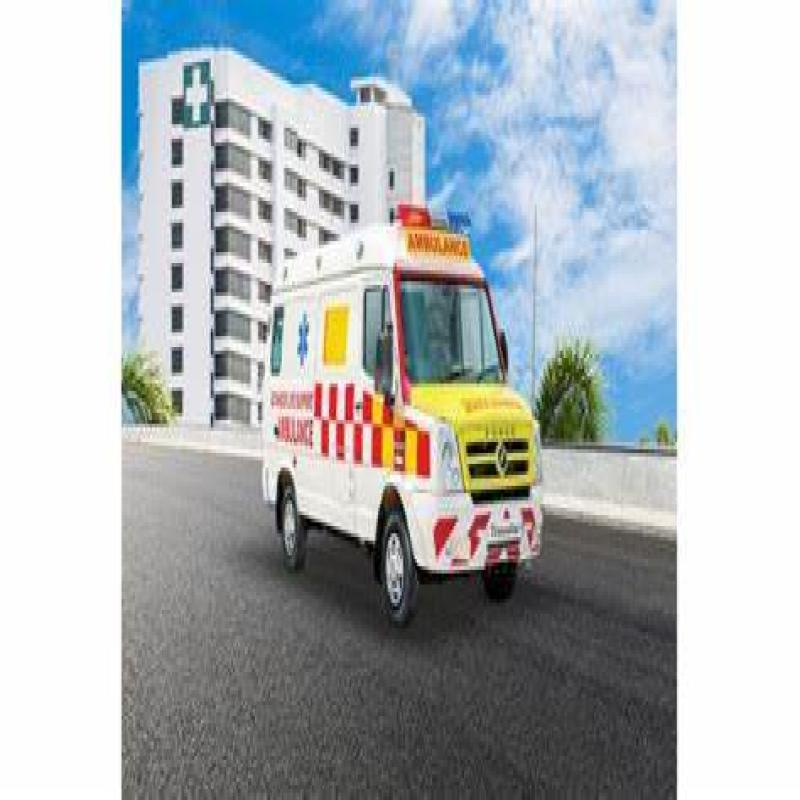AmbulanceSiren: (387, 188, 465, 247)
